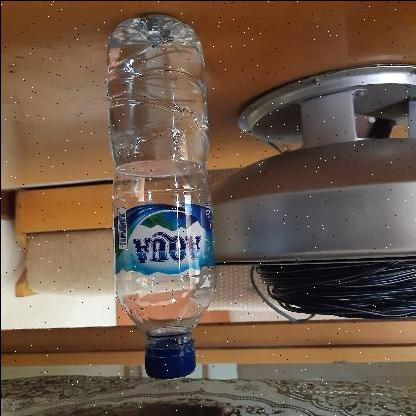Plastic Bottle: (102, 13, 212, 377)
